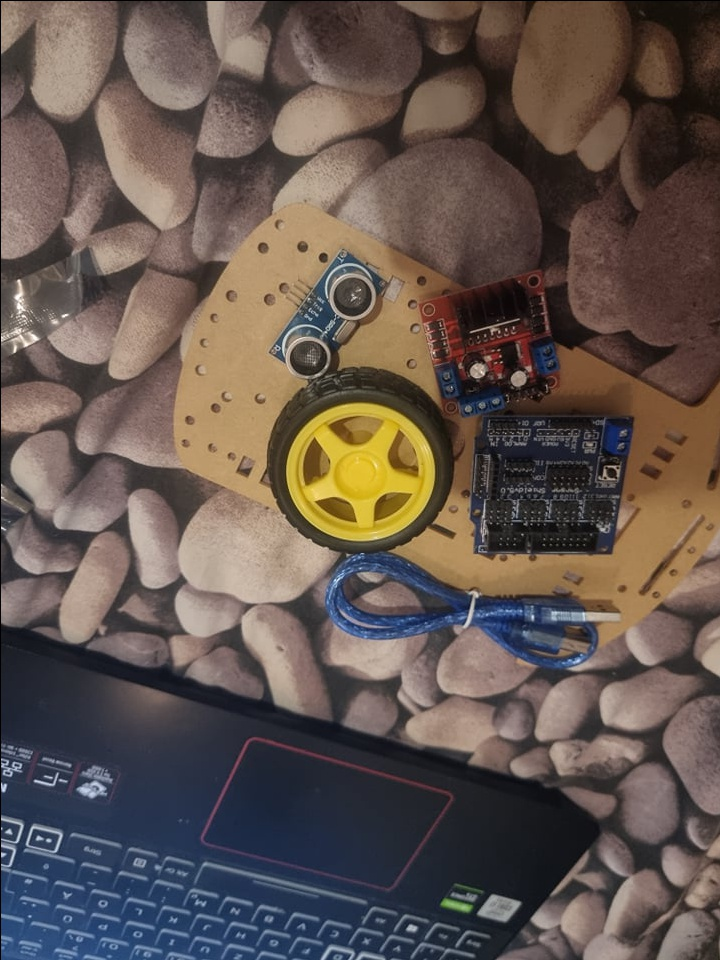5V EXPANSION: (470, 411, 633, 555)
MOTOR: (418, 267, 557, 414)
SENSOR: (274, 259, 385, 377)
